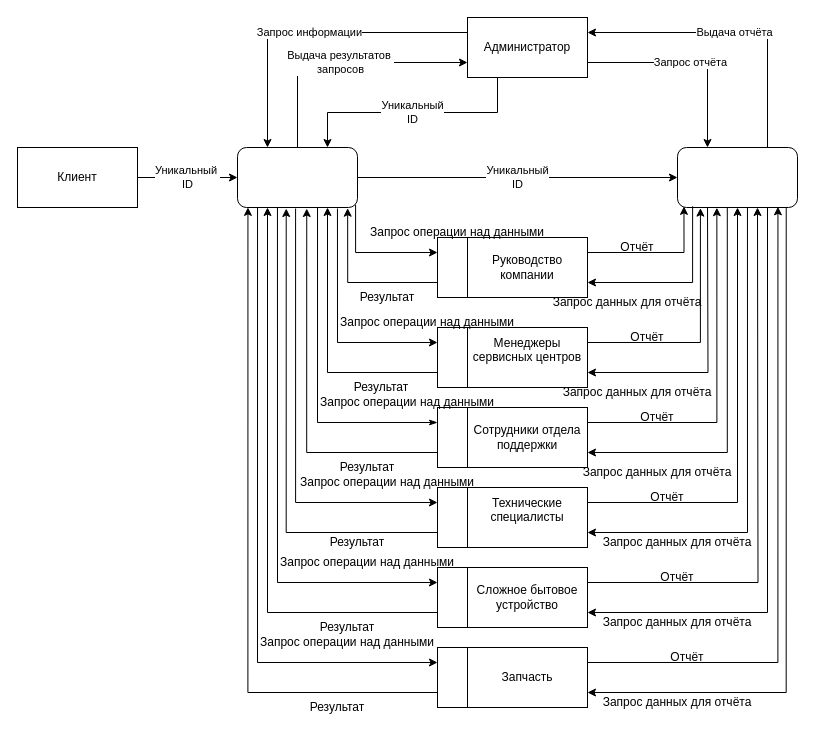
This 815x735 diagram has some shape labels left out. Here are the shapes that lost their labels. From the top down, the centre of each, then its label:
At [297,177]: "Формирование заказав".
At [737,177]: "Закрытие заказов".
